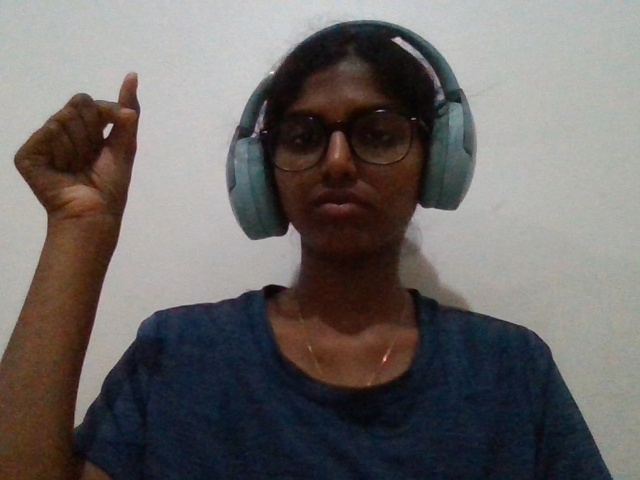G: (1, 47, 176, 321)
